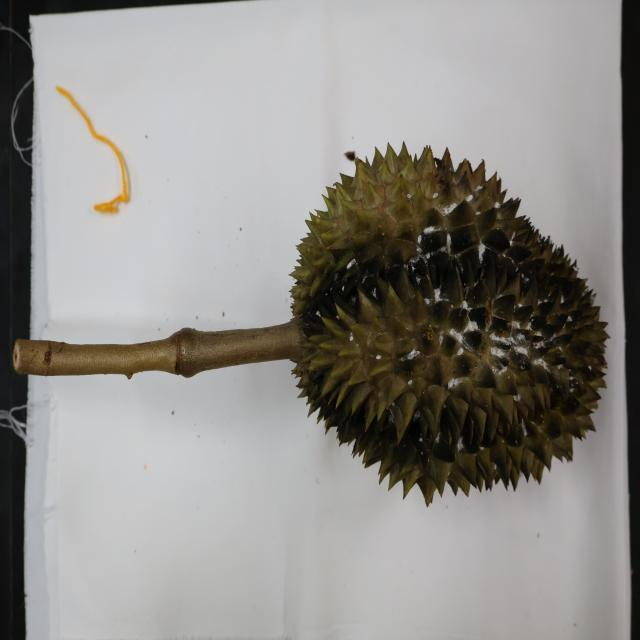defective: (289, 140, 610, 504)
